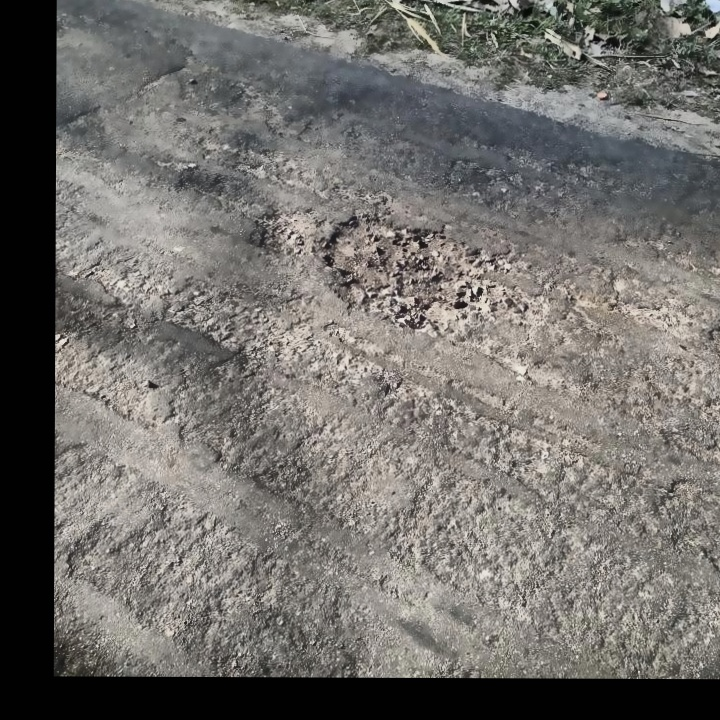pothole: (320, 208, 519, 342)
